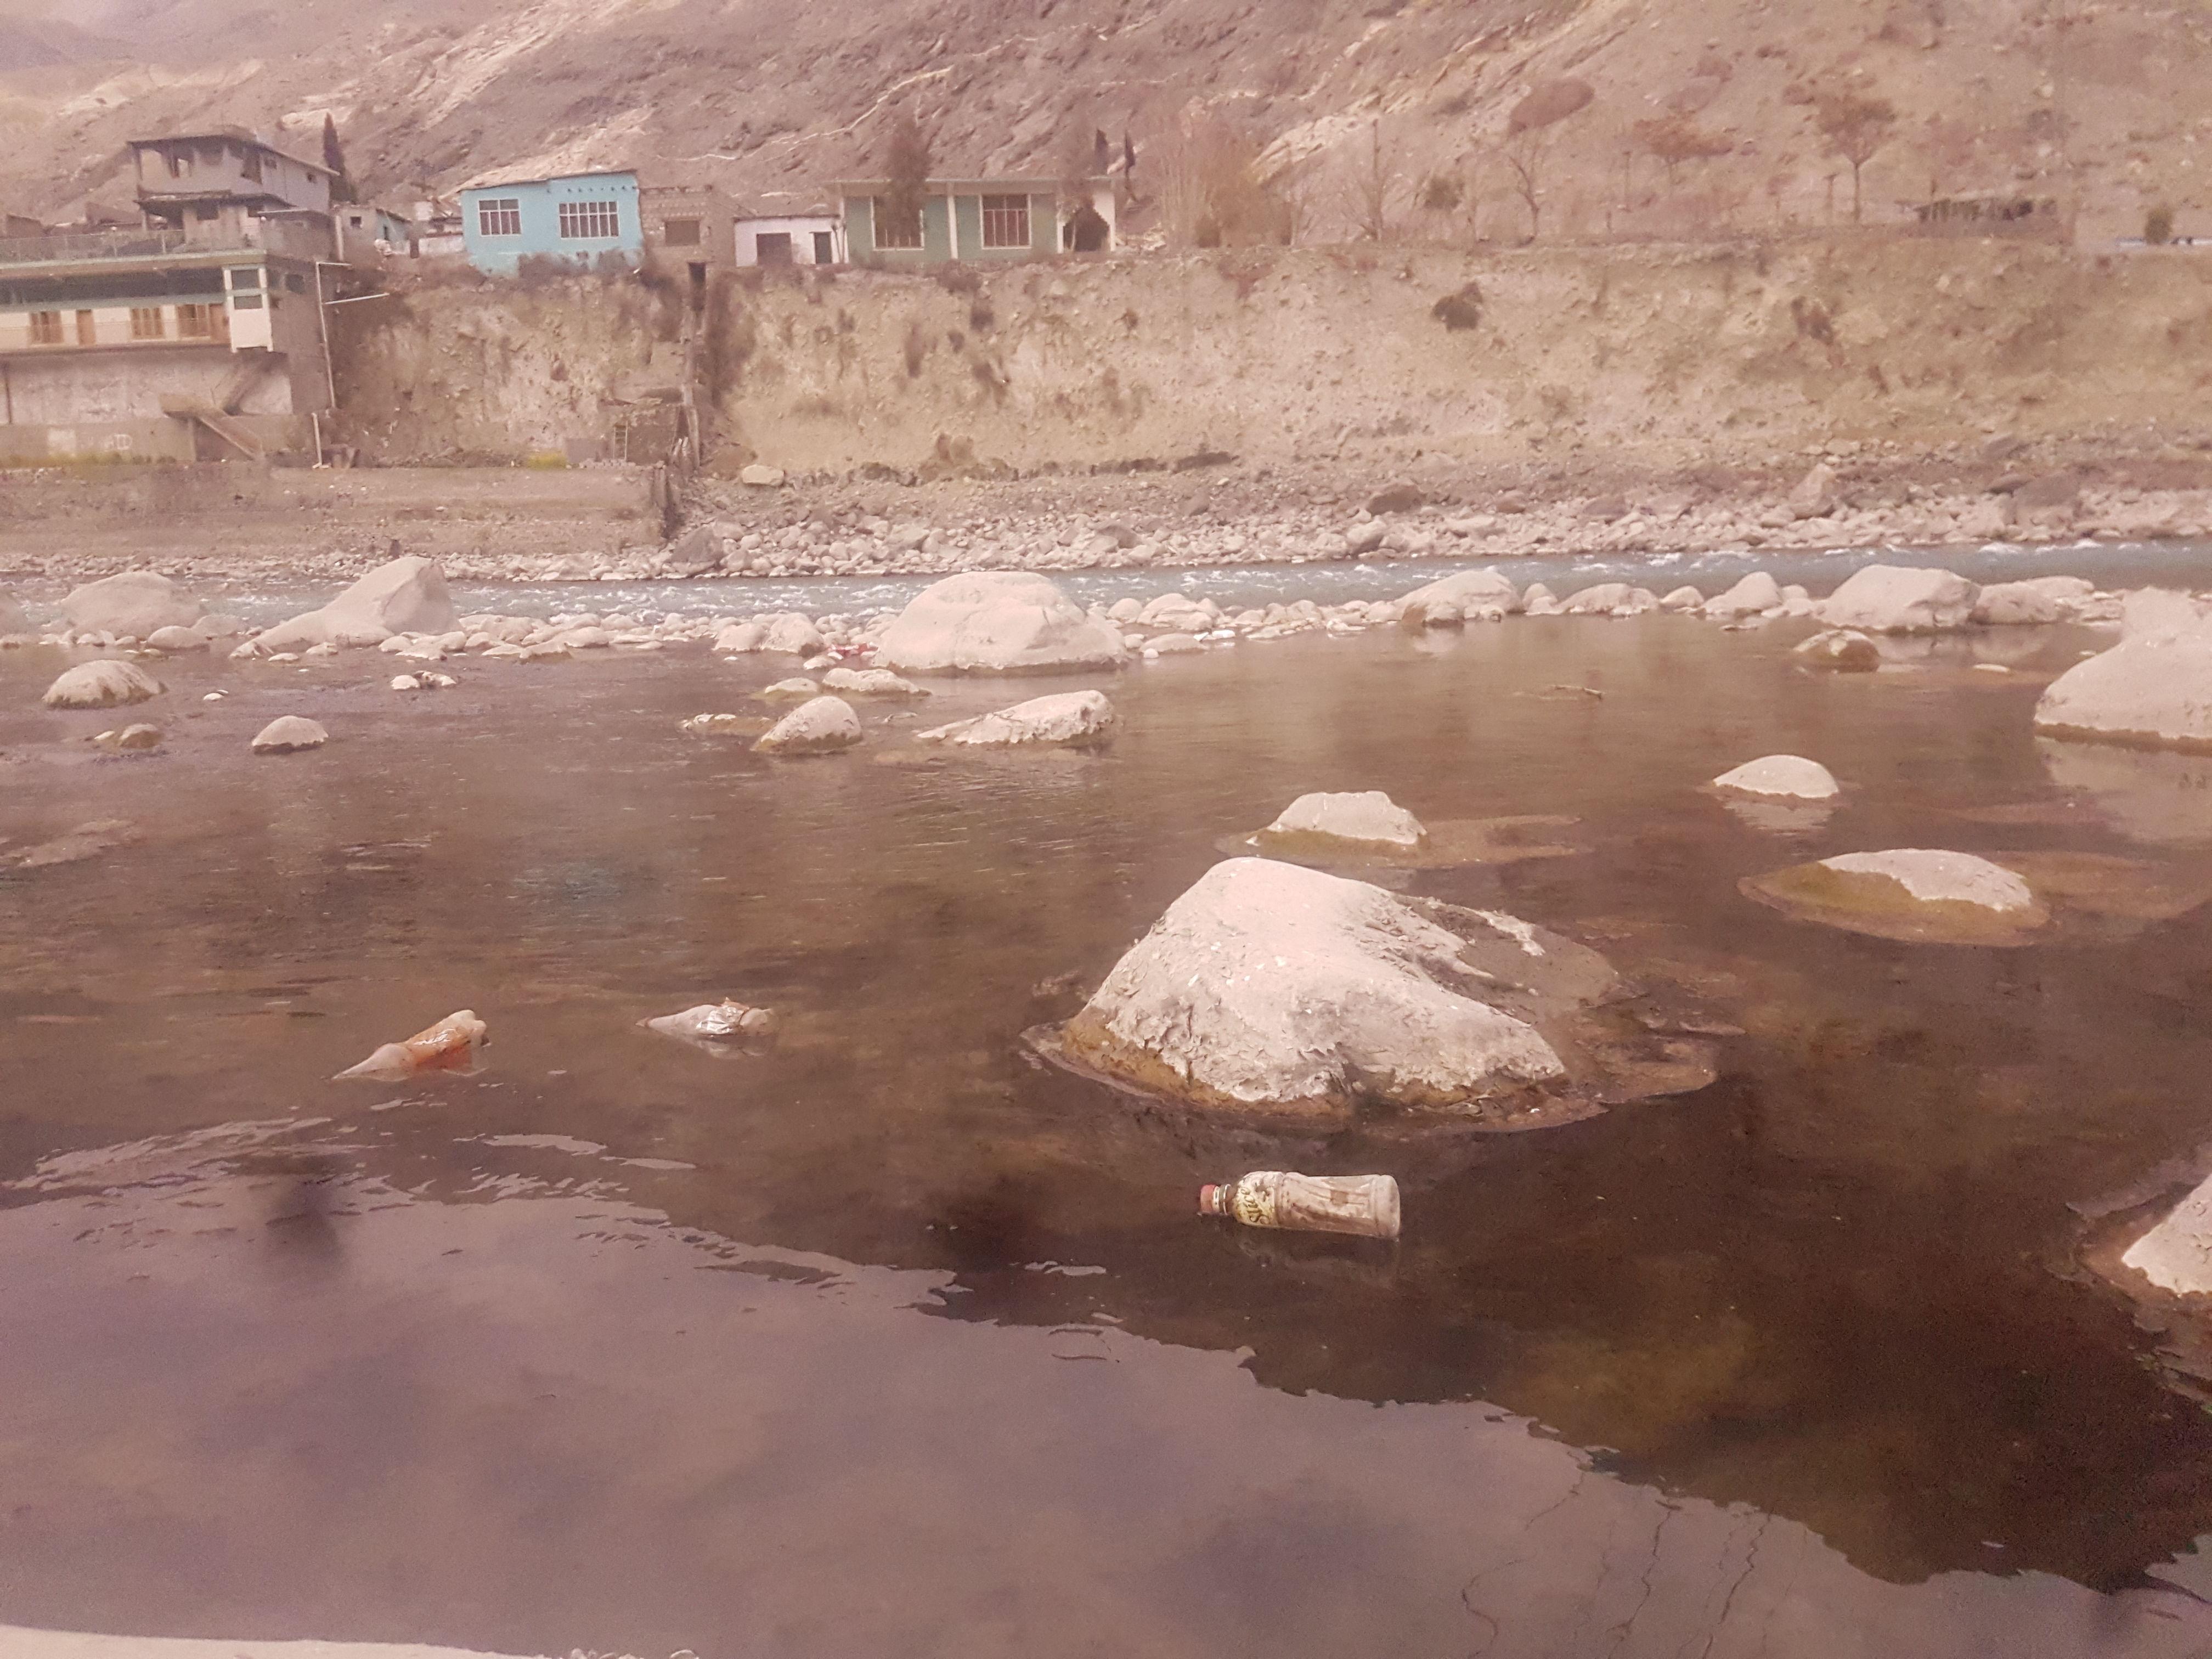Plastic Bottle: (1202, 1169, 1400, 1236), (345, 1009, 488, 1072), (634, 1002, 775, 1037), (833, 641, 874, 655)
